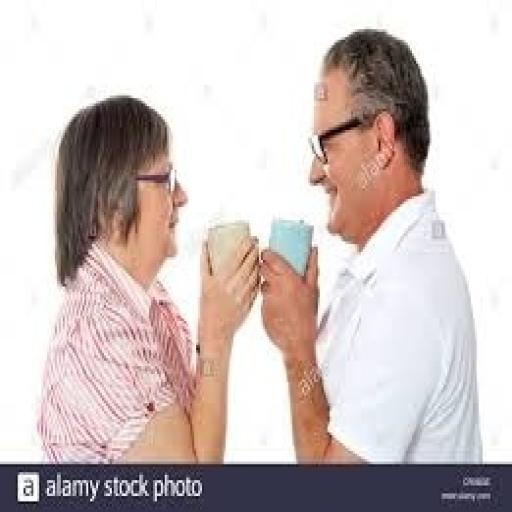drinking: (78, 134, 267, 351), (267, 215, 312, 278)
